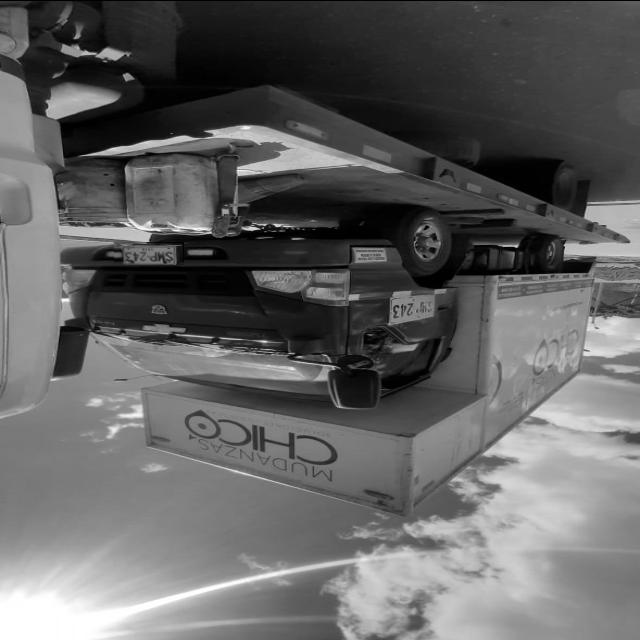plate: (114, 242, 183, 264)
